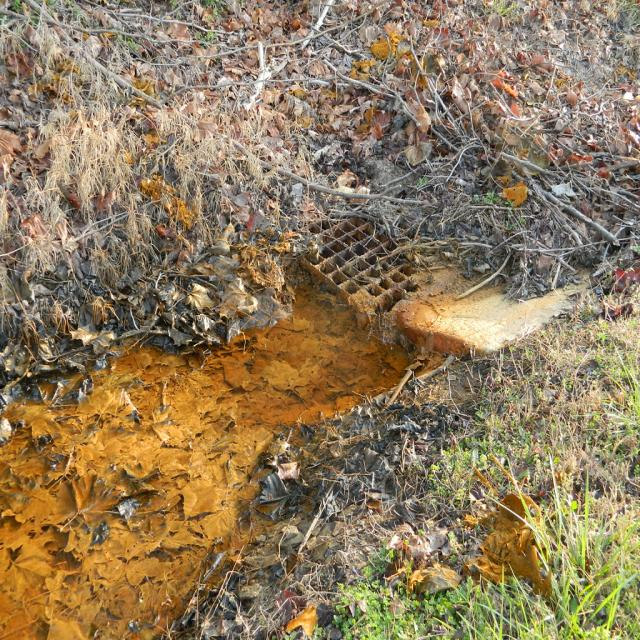yellow_boy: (0, 292, 408, 639)
